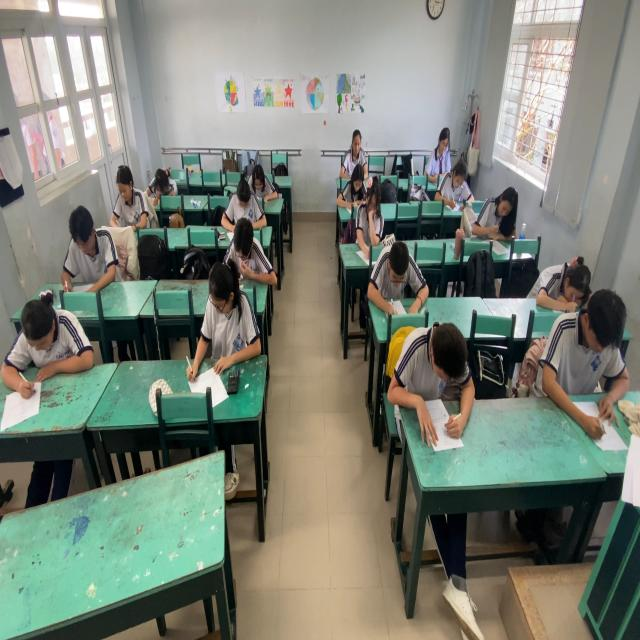not_cheating: (544, 288, 634, 405), (2, 294, 89, 392), (393, 326, 472, 409), (370, 240, 431, 319), (62, 208, 114, 280), (210, 268, 252, 356), (526, 257, 586, 305), (223, 226, 270, 281), (478, 184, 523, 236), (112, 164, 150, 222), (228, 181, 268, 229), (144, 160, 178, 208), (338, 121, 371, 170), (431, 156, 472, 195), (358, 181, 383, 243), (245, 160, 280, 204), (428, 125, 454, 170), (342, 157, 367, 198)
